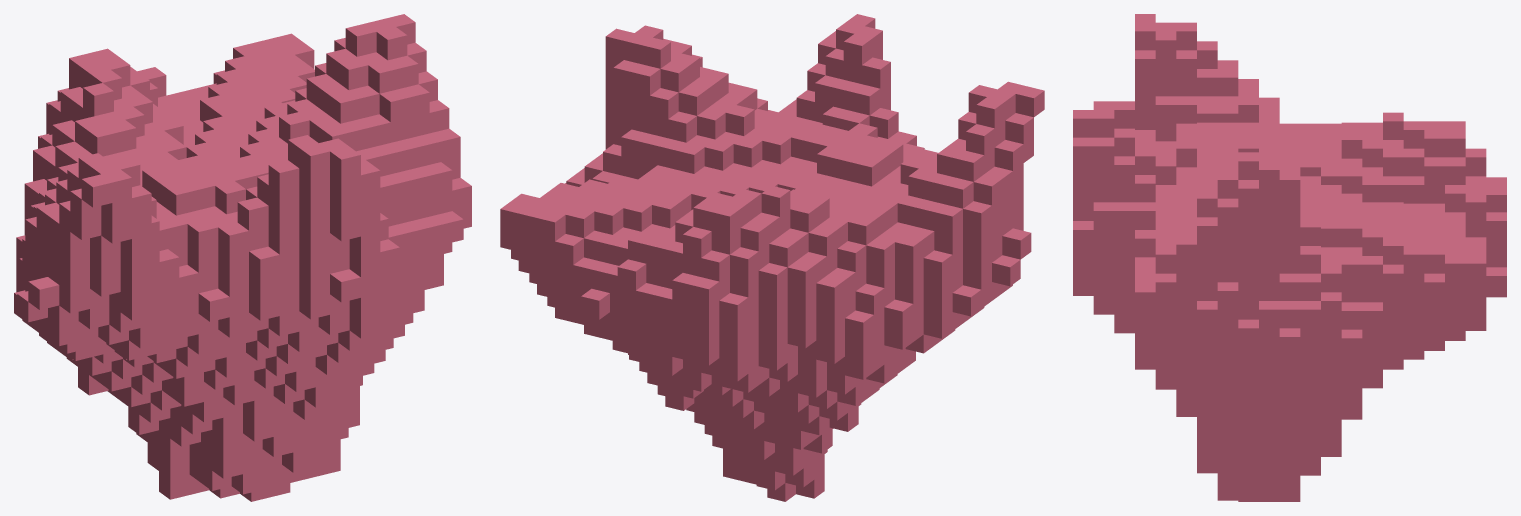
The model's file is BigCoral3.fbx.
The picture shows the model from 3 angles, left to right: view 1: azimuth 30°, elevation 25°; view 2: azimuth 150°, elevation 25°; view 3: azimuth 270°, elevation 25°; orthographic projection. The views are drawn at different scales.
Parts seen in each view (by area): view 1: Landscape.030; view 2: Landscape.030; view 3: Landscape.030.
Boxes of the visible parts, x1=… form: Landscape.030: x1=14, y1=14, x2=471, y2=501; Landscape.030: x1=500, y1=14, x2=1044, y2=501; Landscape.030: x1=1073, y1=14, x2=1506, y2=501.
Bounding box in the file's own units: 101 × 92.51 × 92.51.
